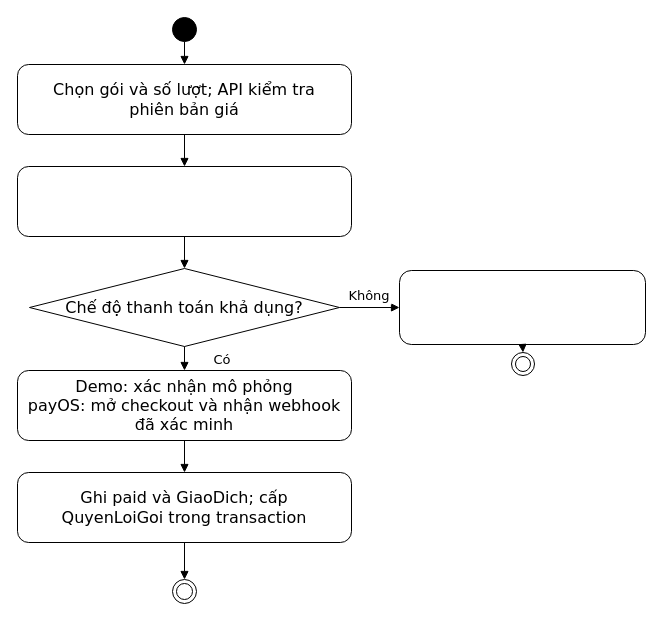
The diagram is 663 pixels wide and 621 high, and some of its shapes have lost their labels. The shapes that lost their labels are listed below. From the top down, each one's centre as x and y in pixels, then its label:
the point at 184,201: Tạo đơn pending theo tài khoản
the point at 522,307: Đơn giữ pending; không cấp quyền
